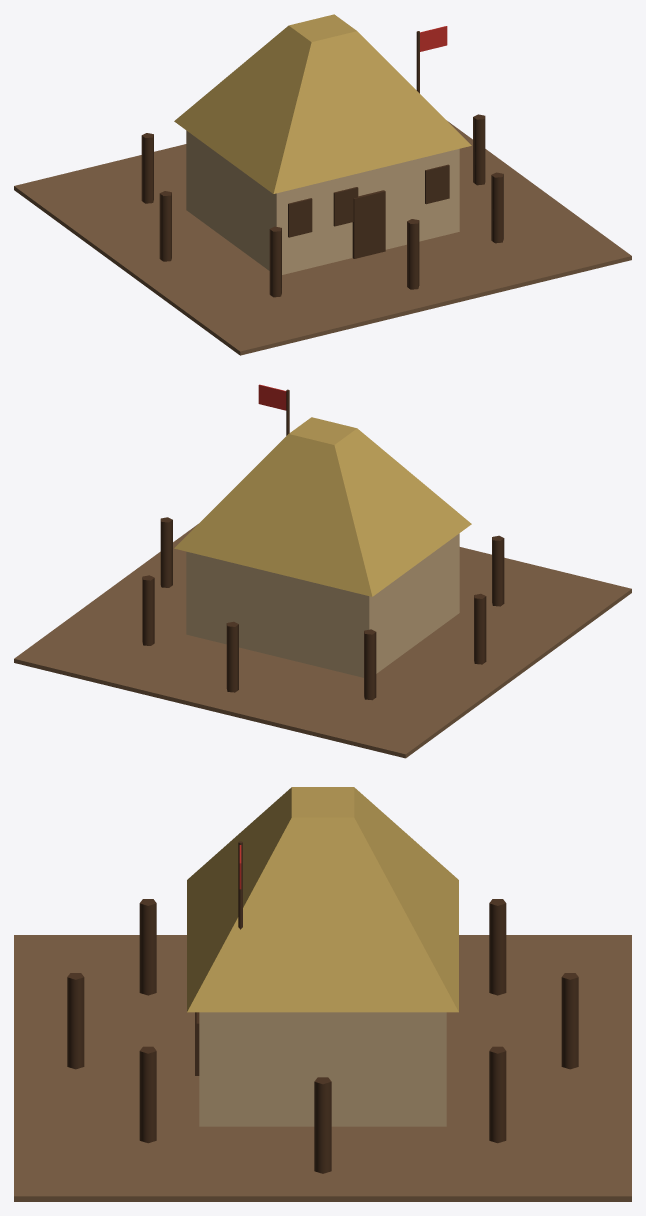
File: bld_special_command_center_a01_lod1.glb
The picture shows the model from 3 angles, top to bottom: view 1: azimuth 30°, elevation 25°; view 2: azimuth 150°, elevation 25°; view 3: azimuth 270°, elevation 25°; orthographic projection. The views are drawn at different scales.
Visible parts, largest first — view 1: body; view 2: body; view 3: body.
Boxes of the visible parts, left/top/right/bottom form: body: left=14, top=14, right=631, bottom=355; body: left=14, top=384, right=631, bottom=758; body: left=14, top=787, right=631, bottom=1201.
Bounding box in the file's own units: 15 × 7.3 × 15.
